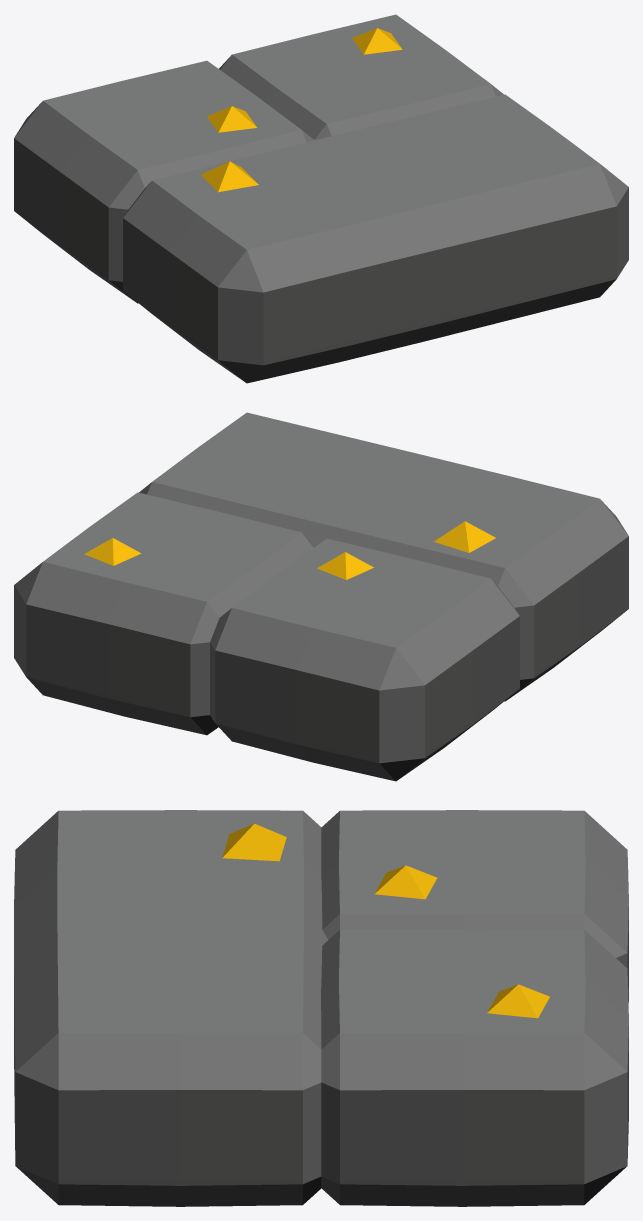
Rendered from m_kub_ore_floorMixed.FBX.
3 renders of one model, top to bottom at view 1: azimuth 30°, elevation 25°; view 2: azimuth 150°, elevation 25°; view 3: azimuth 270°, elevation 25°, orthographic. The views are drawn at different scales.
Visible parts, largest first — view 1: m_kub_ore_floorMixed; view 2: m_kub_ore_floorMixed; view 3: m_kub_ore_floorMixed.
Part boxes in pixels (x1,y1,x2,y2): m_kub_ore_floorMixed: (14,14,628,383); m_kub_ore_floorMixed: (14,412,628,781); m_kub_ore_floorMixed: (14,810,628,1206).
Bounding box in the file's own units: 2.18 × 0.7826 × 2.18.
